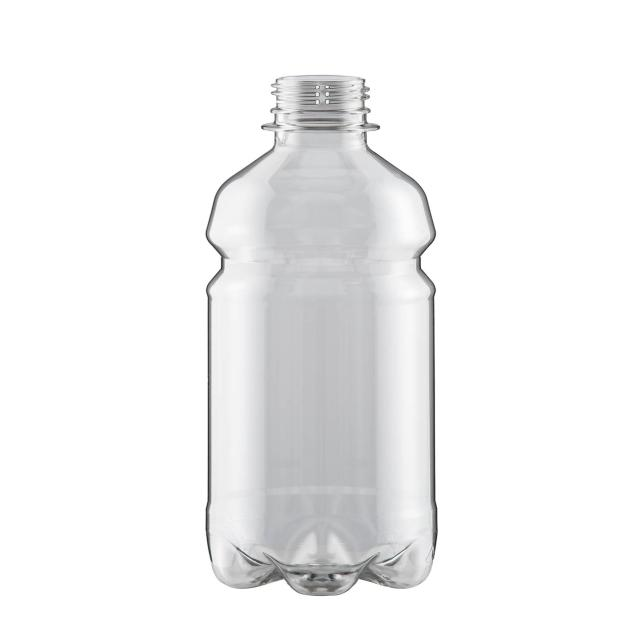bottom: (208, 534, 435, 596)
neck: (206, 75, 435, 261)
